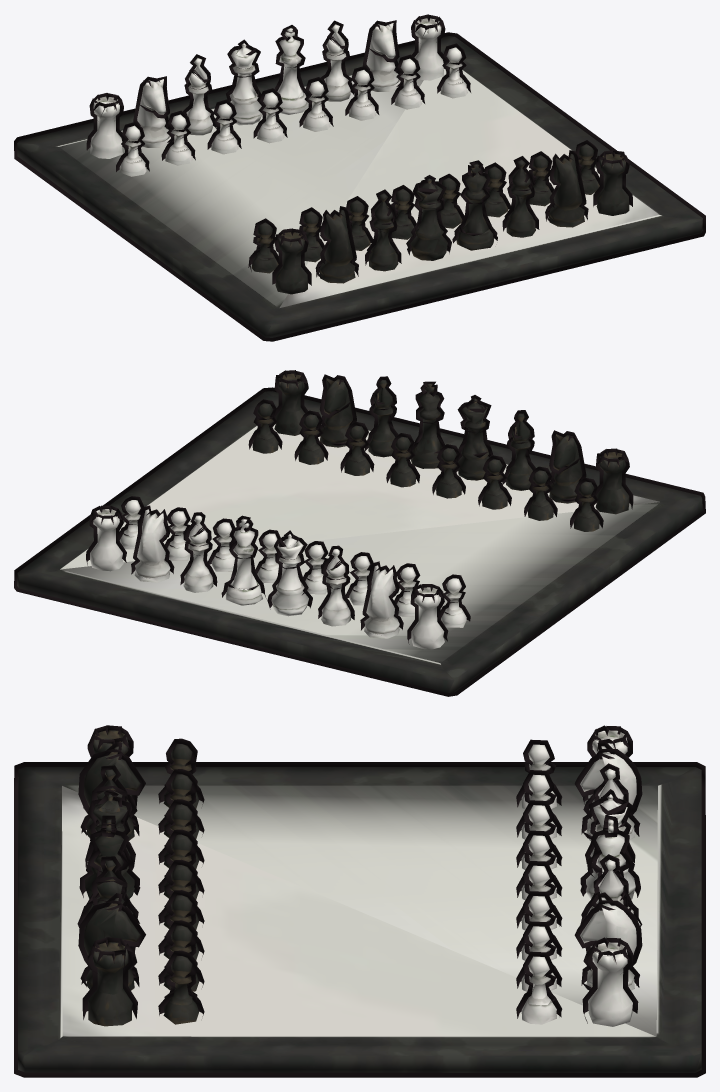
File: SM_Int_Chess.fbx
3 renders of one model, top to bottom at view 1: azimuth 30°, elevation 25°; view 2: azimuth 150°, elevation 25°; view 3: azimuth 270°, elevation 25°, orthographic. The views are drawn at different scales.
Parts seen in each view (by area): view 1: SM_Int_Chess; view 2: SM_Int_Chess; view 3: SM_Int_Chess.
Boxes of the visible parts, bbox=[...] form: SM_Int_Chess: bbox=[14, 14, 705, 341]; SM_Int_Chess: bbox=[14, 370, 705, 696]; SM_Int_Chess: bbox=[14, 725, 705, 1077].
Size of the model in its own units: 0.5589 by 0.1164 by 0.559.
